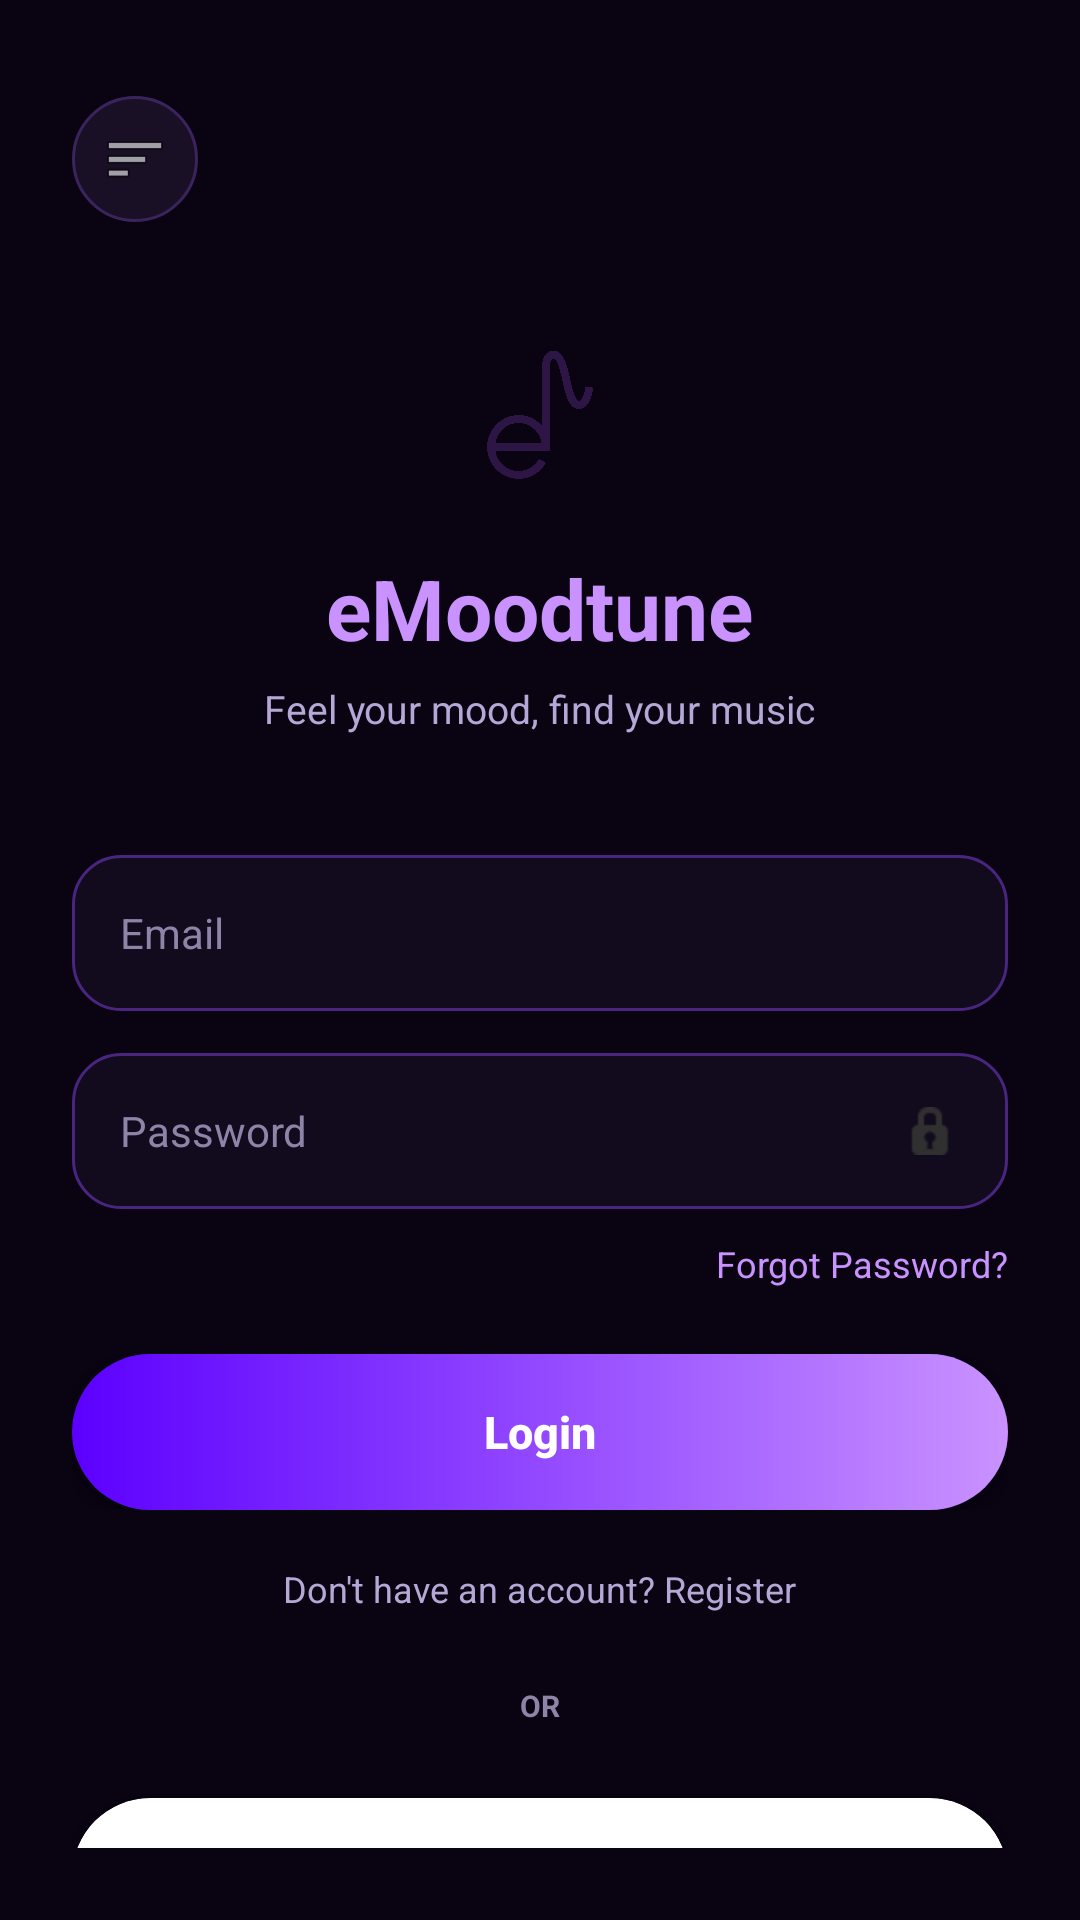

Named icons in this screenshot (1080x1920) and their bounding boxes, {"left": x1, "top": y1, "right": x2, "bottom": y2}:
Menu: {"left": 72, "top": 96, "right": 198, "bottom": 222}
